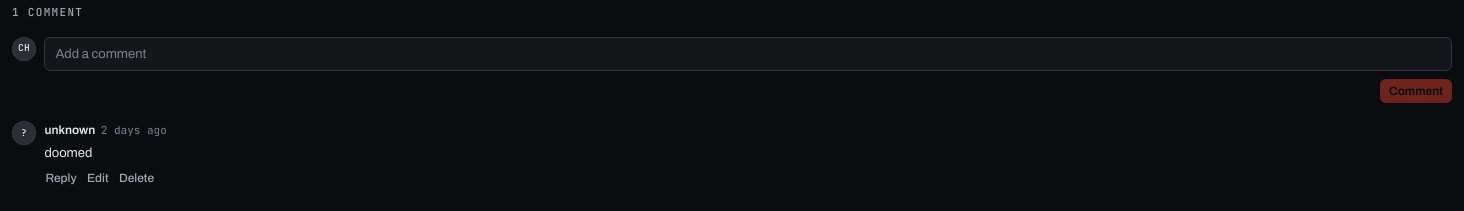
CommentThread › deletes own comment behind a confirm; declining sends nothing
The image size is (1464, 211).
Click the button "Delete". click: (136, 178)
box: [118,166,155,190]
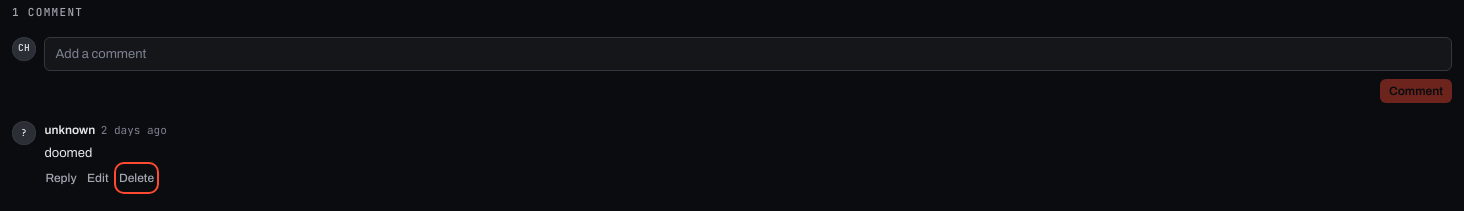
Check: the text "doomed" is shown, box [44,146,92,160]
Click the button "Delete". click: (136, 178)
box: [118,166,155,190]
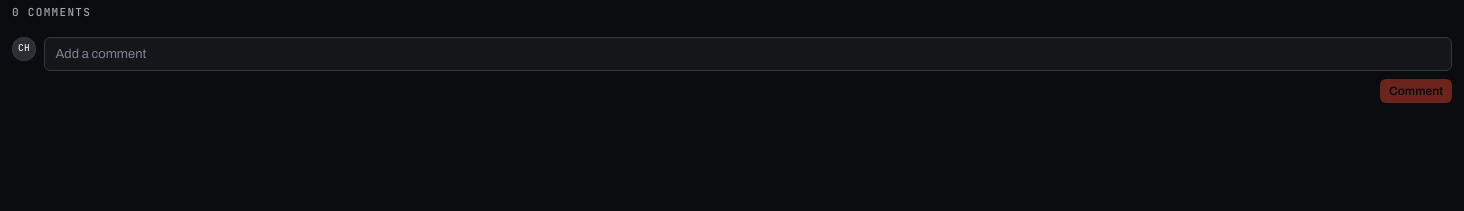
Check: the text "doomed" is gone
